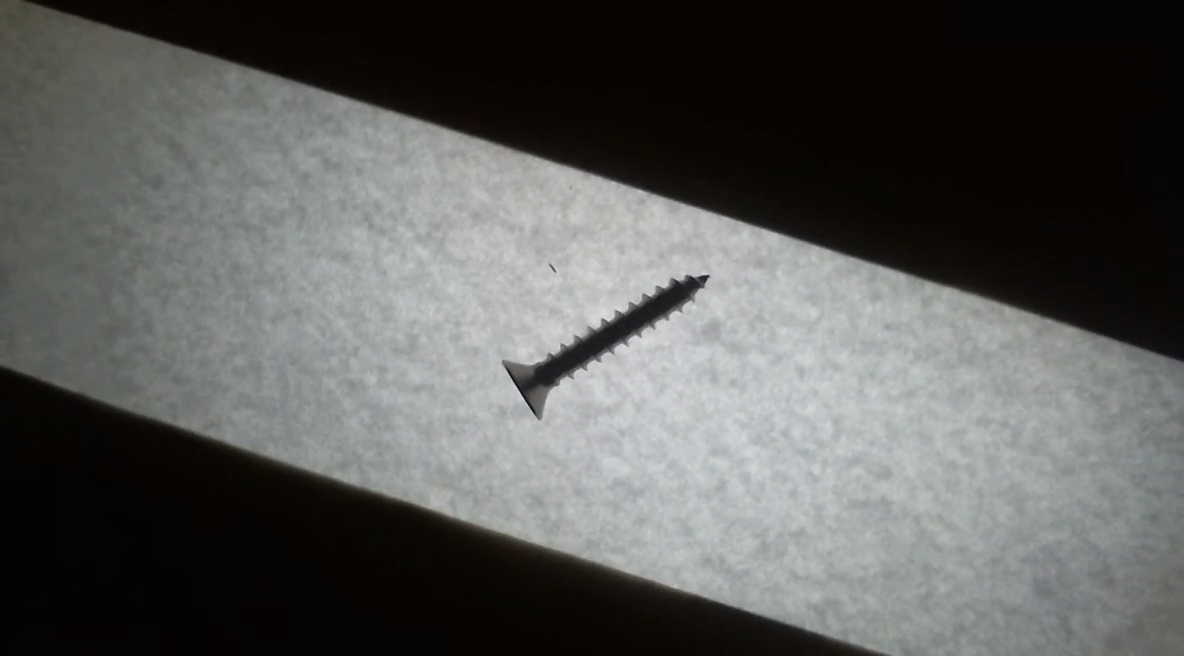S001: (490, 252, 720, 430)
